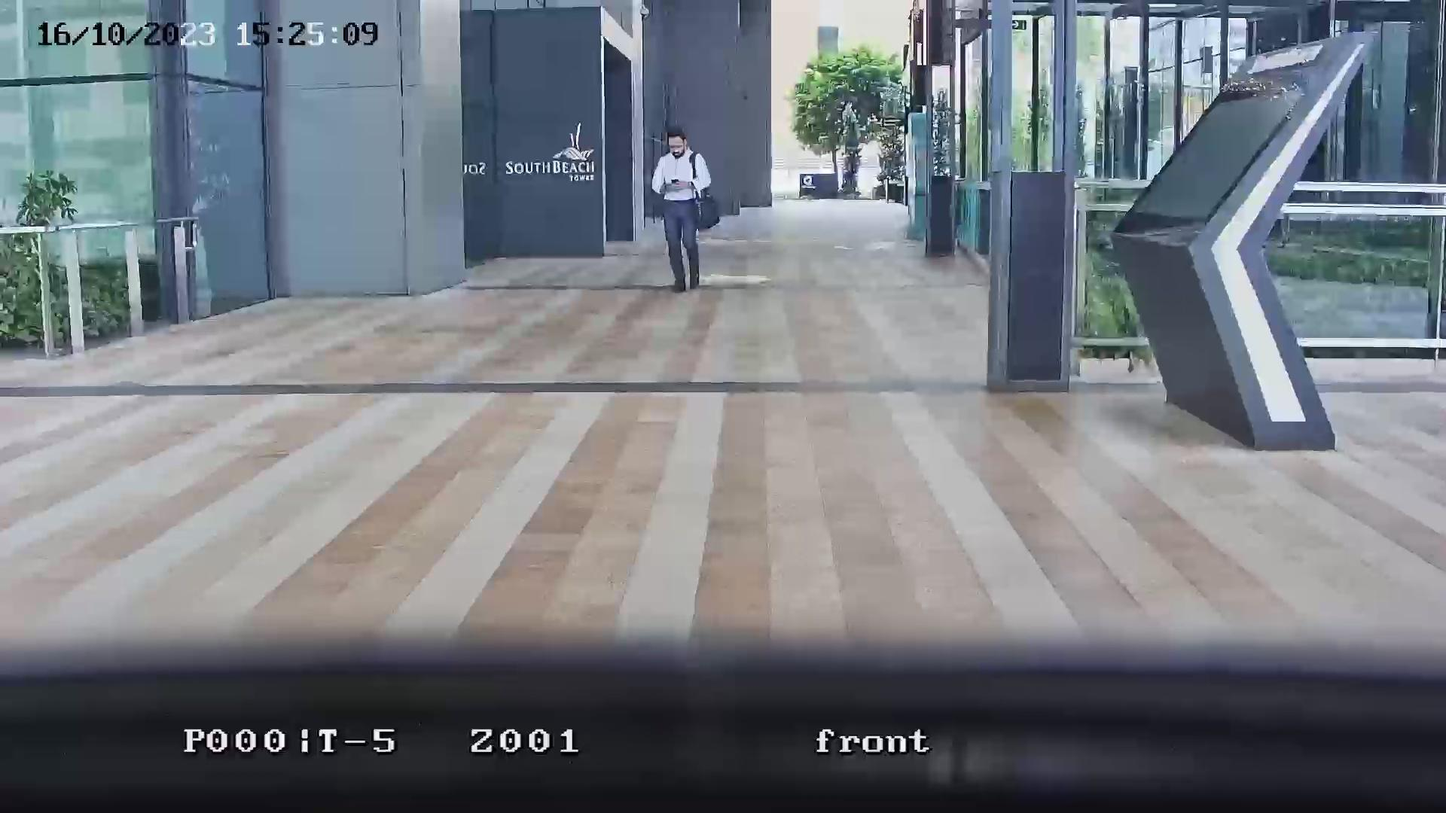person: (650, 123, 713, 294)
